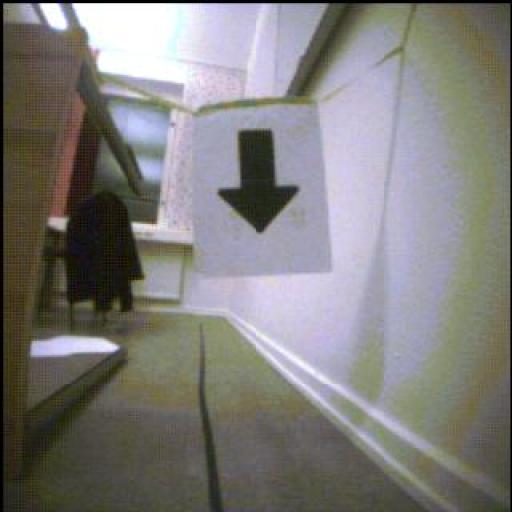arrow: (219, 131, 300, 233)
